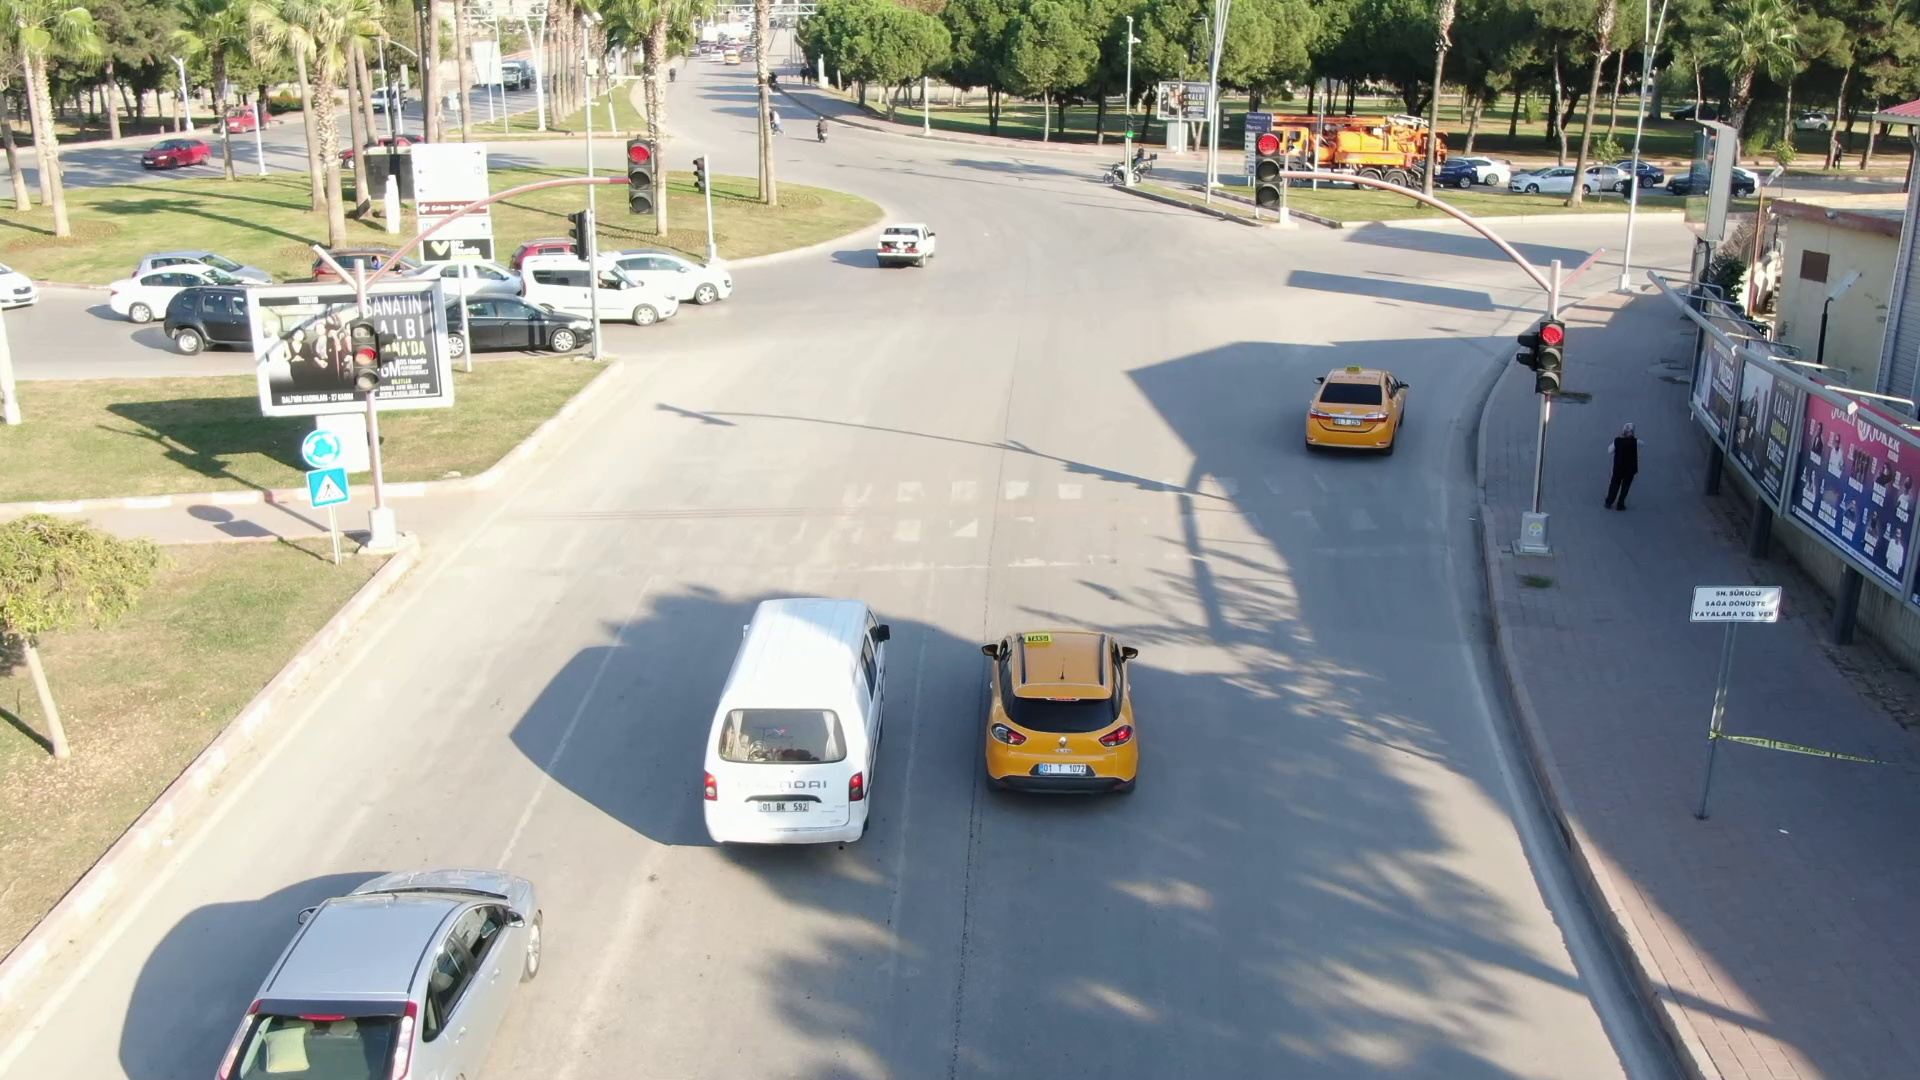car: (194, 784, 550, 1080), (688, 578, 921, 870), (970, 608, 1147, 808), (510, 257, 678, 329), (157, 270, 270, 365), (102, 259, 276, 319), (1298, 361, 1414, 451), (449, 288, 608, 351), (606, 249, 747, 308), (868, 217, 945, 270)
person: (1598, 431, 1645, 523)
